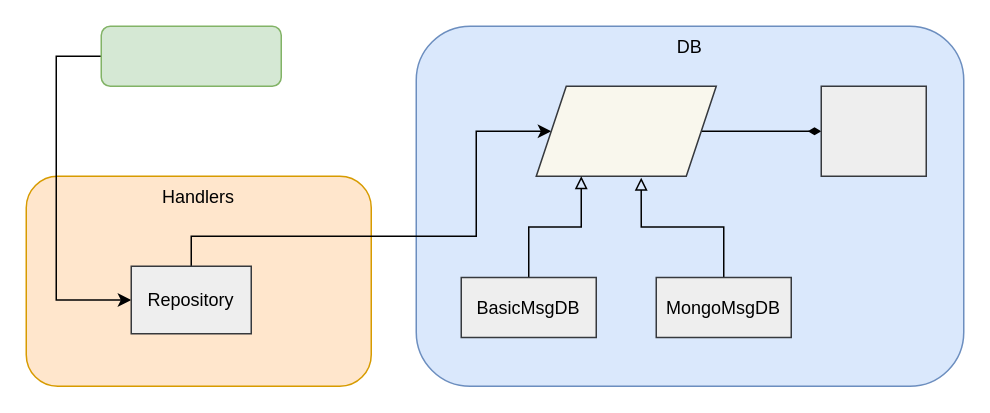
Some shapes in this 990 by 413 pixel diagram are drawn without their labels. The centre of each missing label's shape, as x and y in pixels:
Main: point (190, 55)
Msg: point (873, 130)
MsgDB: point (625, 130)
